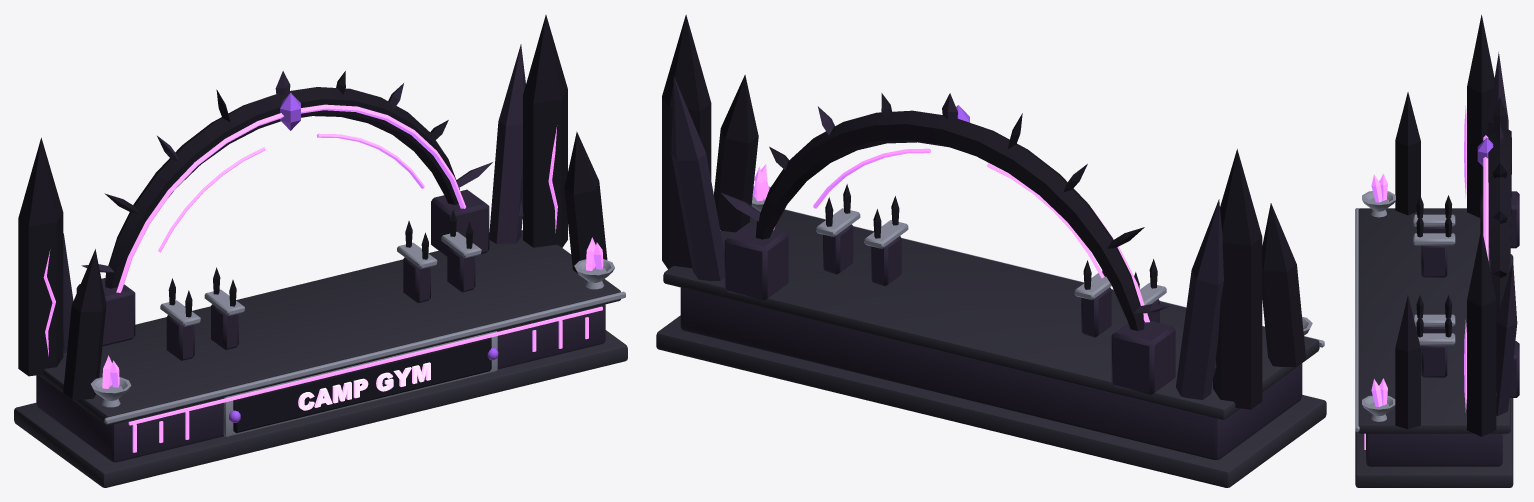
The model's file is st_09_obsidian.glb.
3 views of the same model, side by side, from view 1: azimuth 30°, elevation 25°; view 2: azimuth 150°, elevation 25°; view 3: azimuth 270°, elevation 25° (orthographic). The views are drawn at different scales.
Parts seen in each view (by area): view 1: st_09_obsidian; view 2: st_09_obsidian; view 3: st_09_obsidian.
Part boxes in pixels (box(x1,y1,x2,y2)): st_09_obsidian: box(14, 15, 627, 487); st_09_obsidian: box(656, 14, 1326, 487); st_09_obsidian: box(1355, 15, 1519, 487).
Bounding box in the file's own units: 10.36 × 5.4 × 3.13.
